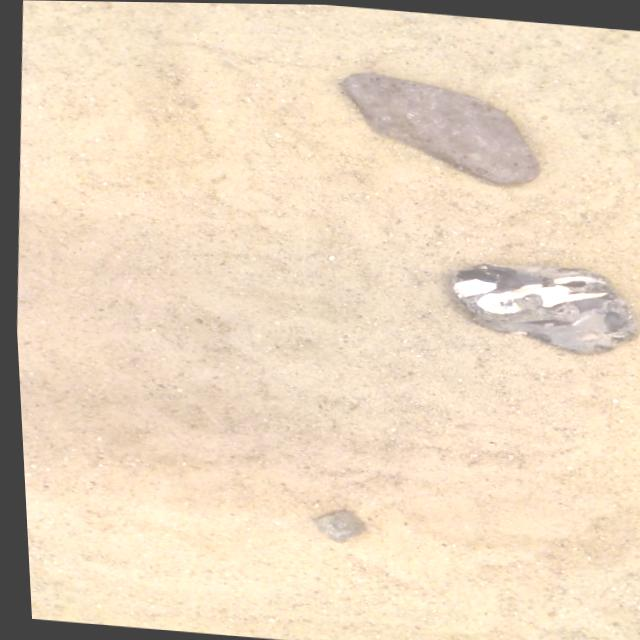rock: (340, 72, 537, 182), (449, 263, 635, 352), (306, 508, 358, 542)
